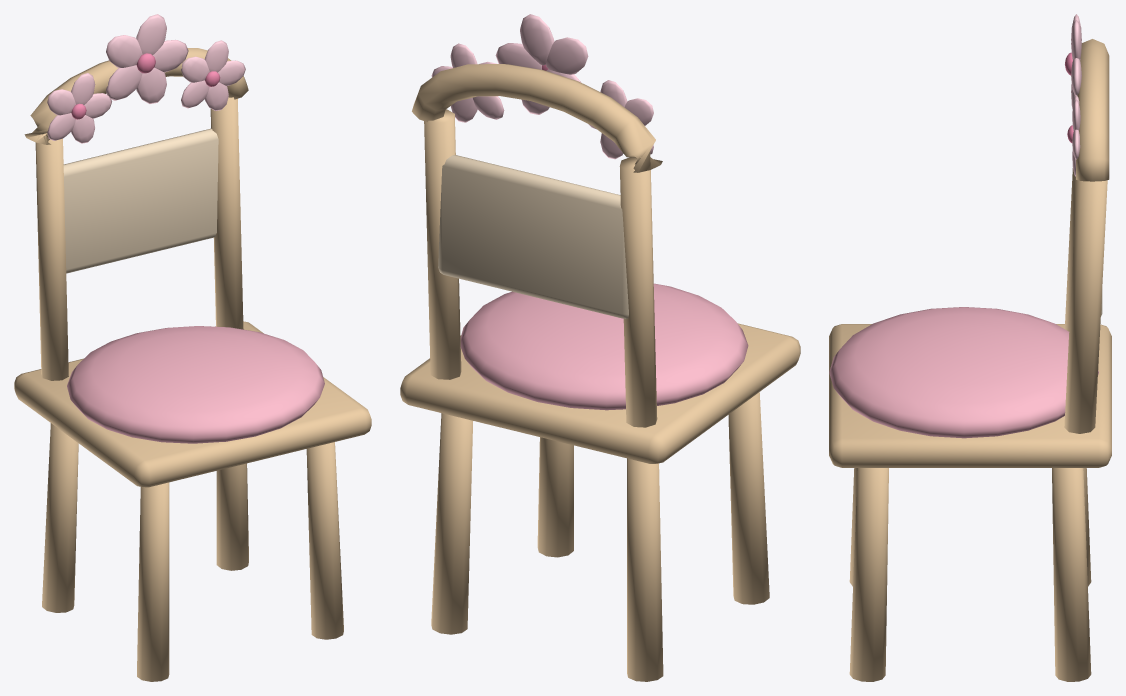
Rendered from cherry-chair.glb.
3 views of the same model, side by side, from view 1: azimuth 30°, elevation 25°; view 2: azimuth 150°, elevation 25°; view 3: azimuth 270°, elevation 25° (orthographic). The views are drawn at different scales.
Visible parts, largest first — view 1: chair; view 2: chair; view 3: chair.
Boxes of the visible parts, x1,y1,x2,y2 form: chair: (14,14,371,681); chair: (400,14,800,681); chair: (829,14,1111,681).
Size of the model in its own units: 0.46 by 1.05 by 0.44.
